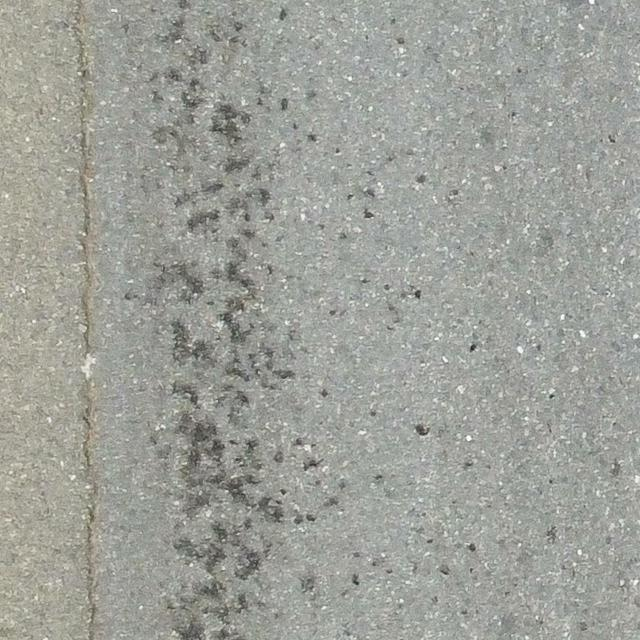LongitudinalCrack: (74, 2, 98, 640)
